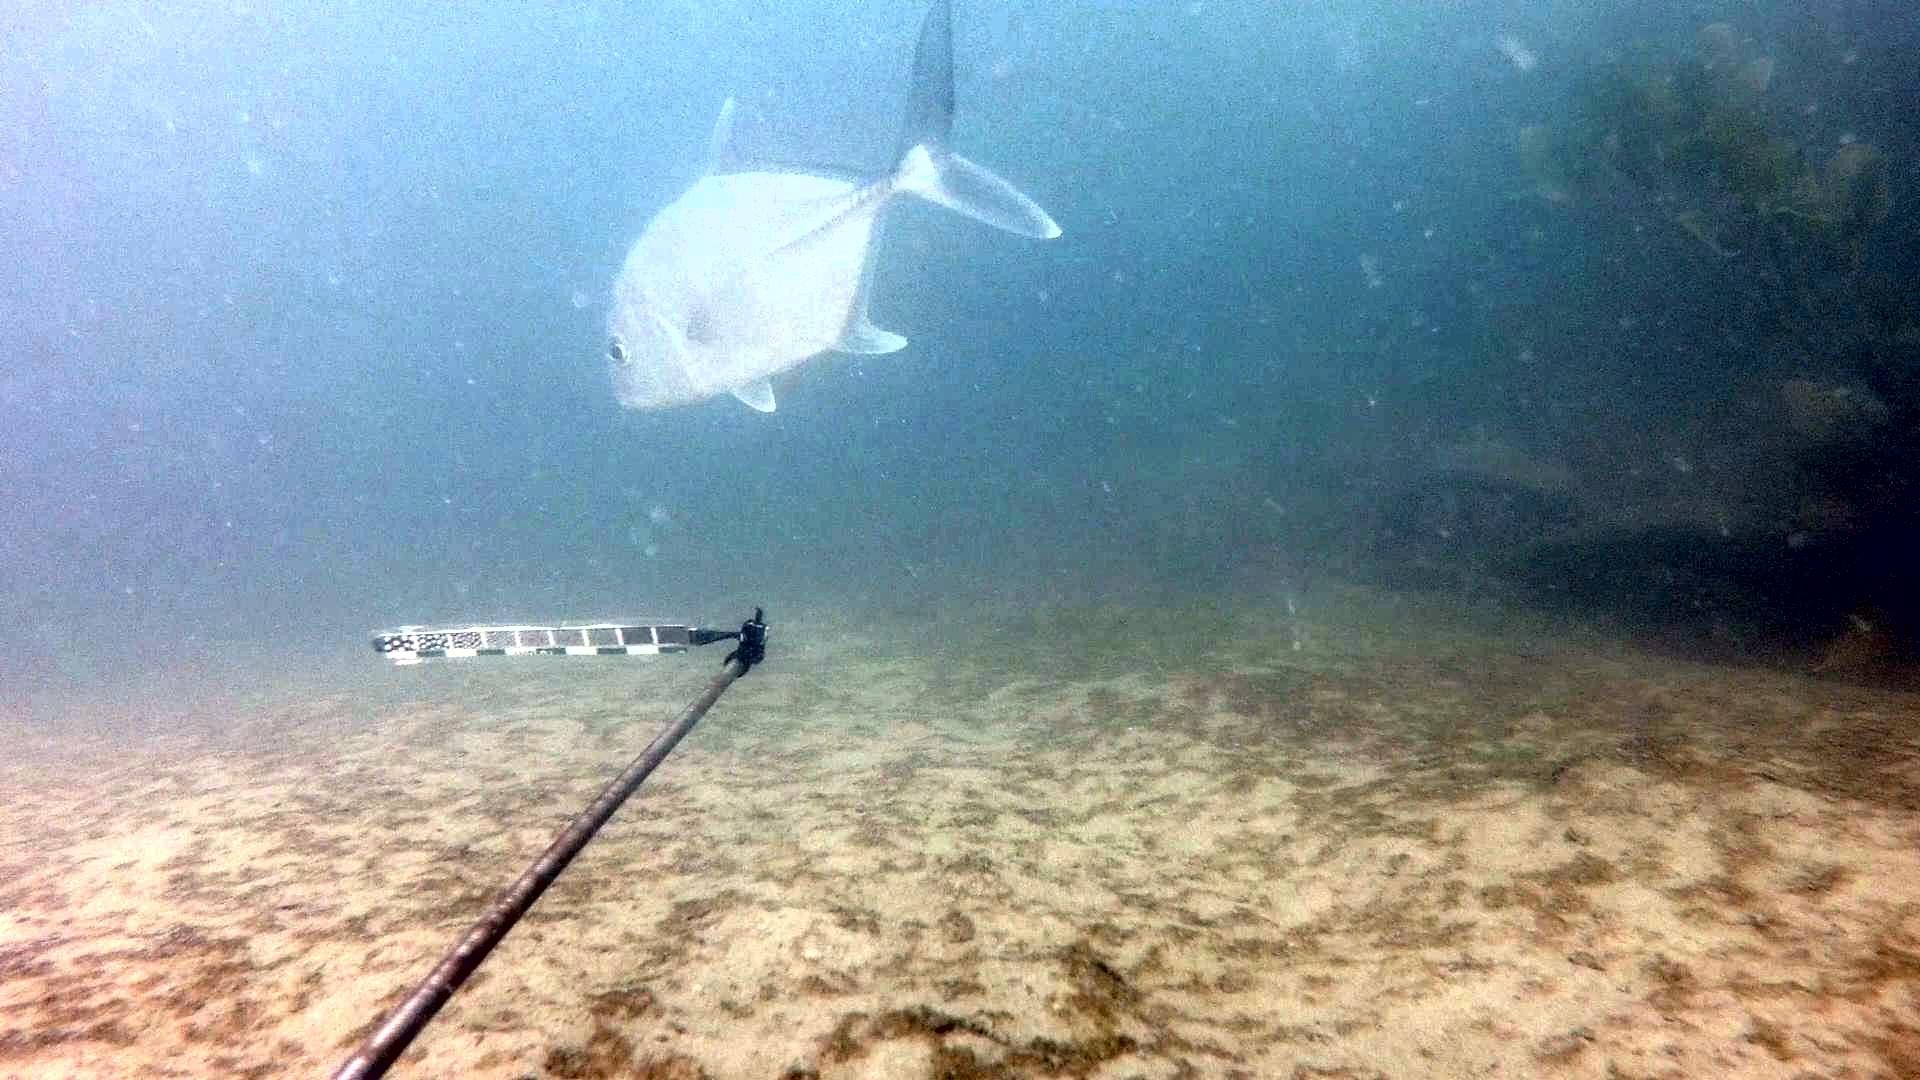caranx: (593, 0, 1074, 438)
